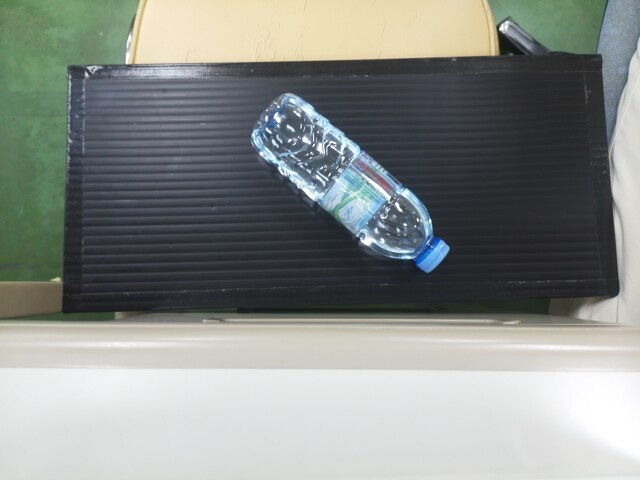plastic_bottle: (249, 74, 437, 271)
